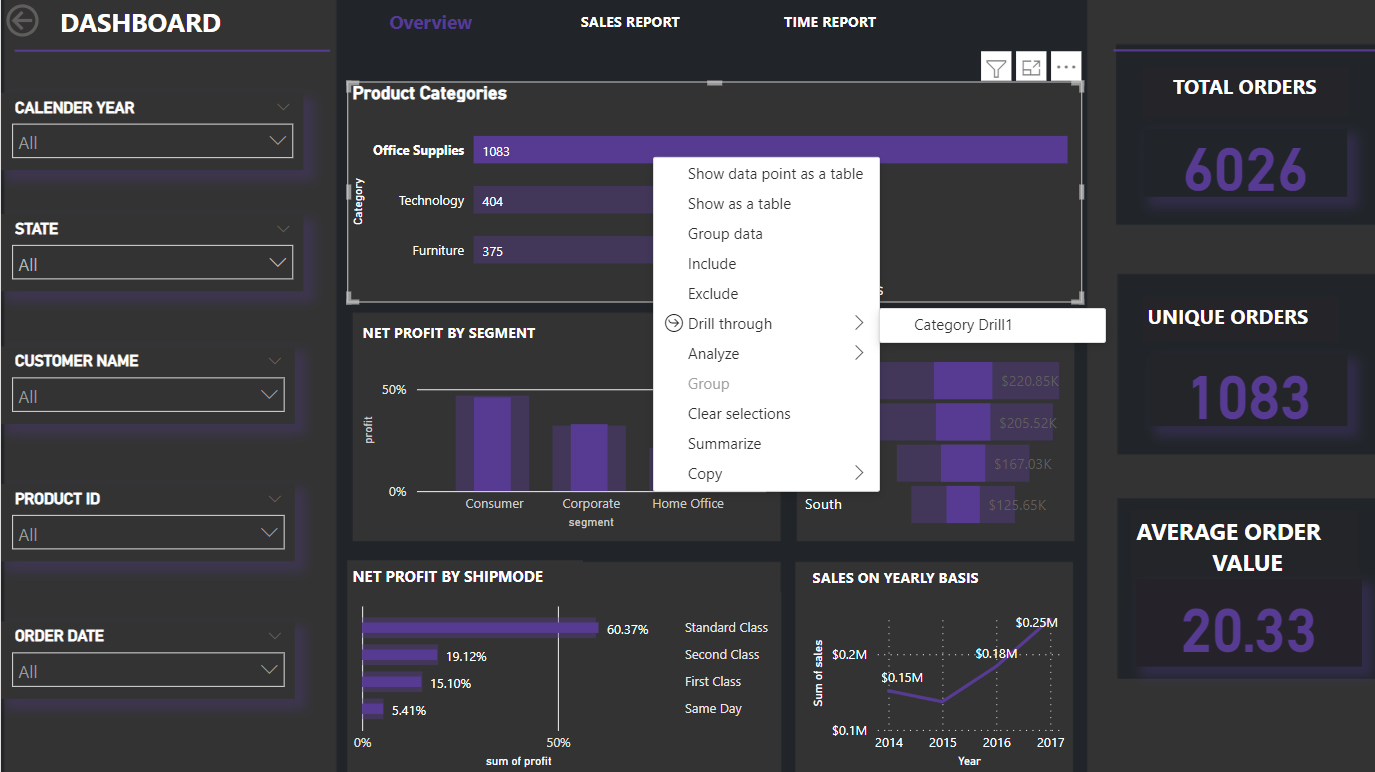

This screenshot's page, from the dashboard's own definition file:
{"tool":"powerbi","page":{"name":"Overview","canvas":[1280,720],"ordinal":0},"visuals":[{"type":"actionButton","box":[0,0,50.1,40.3],"z":0},{"type":"textbox","box":[331.6,296.7,186.2,31.4],"z":1000},{"type":"textbox","box":[322.7,522,218.8,30.6],"z":2000},{"type":"textbox","box":[750.6,298.3,215.1,30.6],"z":3000},{"type":"textbox","box":[750.8,524.3,220.3,30.8],"z":4000},{"type":"textbox","box":[1062.4,64,190.8,45.4],"z":5000},{"type":"textbox","box":[1062.4,278.1,182.7,40.7],"z":6000},{"type":"columnChart","fields":{"Category":["data_analysis customer_dim.segment"],"Y":["CountNonNull(data_analysis orderfact.profit)"]},"box":[331.6,330.5,385.2,167.6],"z":7000},{"type":"barChart","fields":{"Y":["CountNonNull(data_analysis orderfact.profit)"],"Category":["data_analysis shipmode_dim.ShipMode"]},"box":[322.3,552.7,403.8,167.6],"z":8000},{"type":"funnel","fields":{"Category":["data_analysis geography_dim.Region"],"Y":["Sum(data_analysis orderfact.sales)"]},"box":[743.6,329.3,251.3,167.6],"z":9000},{"type":"lineChart","fields":{"Y":["Sum(data_analysis orderfact.sales)"],"Category":["data_analysis order_dim.OrderDate.Variation.Date Hierarchy.Year"]},"box":[750.5,560.9,244.4,159.4],"z":10000},{"type":"textbox","box":[322.3,87.3,684.2,193.2],"z":11000},{"type":"barChart","title":"Product Categories ","fields":{"Category":["data_analysis product_dim.Category"],"Y":["CountNonNull(data_analysis product_dim.Sub_Category)"]},"box":[322.3,76.8,684.2,206],"z":12000},{"type":"textbox","box":[50.1,0,190.7,46.5],"z":13000},{"type":"card","fields":{"Values":["CountNonNull(data_analysis orderfact.sales)"]},"box":[1063.6,121,189.7,62.8],"z":14000},{"type":"card","fields":{"Values":["Count(data_analysis orderfact.ProductID)"]},"box":[1069.4,330.5,183.9,67.5],"z":15000},{"type":"textbox","box":[1051.9,475.9,210.6,76.8],"z":16000},{"type":"card","fields":{"Values":["data_analysis orderfact.Sum of profit divided by Count of sales"]},"box":[1056.6,539.9,210.6,81.5],"z":17000},{"type":"slicer","fields":{"Values":["data_analysis geography_dim.state"]},"box":[0,200.6,281.7,72.1],"z":18000},{"type":"slicer","fields":{"Values":["LocalDateTable_2fb53911-9730-4717-8495-35f770c958fc.Year"]},"box":[0,86.8,281.7,72.1],"z":19000},{"type":"slicer","fields":{"Values":["data_analysis customer_dim.CustomerName"]},"box":[0,323.4,273.8,72.1],"z":20000},{"type":"slicer","fields":{"Values":["data_analysis orderfact.ProductID"]},"box":[0,451.8,273.8,72.1],"z":21000},{"type":"slicer","fields":{"Values":["LocalDateTable_2fb53911-9730-4717-8495-35f770c958fc.Date"]},"box":[0,579.2,273.8,72.1],"z":22000},{"type":"pageNavigator","box":[311.9,0,549.2,41.9],"z":23000},{"type":"shape","box":[12.8,20.9,293.2,54.7],"z":24000},{"type":"shape","box":[1035.4,18.3,244.5,58.7],"z":25000}]}

Visuals, with their boxes on the page's 1280x720 design canvas (x1, y1, x2, y2). These are canvas units, not pixel positions in the 1375x772 screenshot, which may show the page scaled, cropped or inside an application window:
actionButton: x1=0, y1=0, x2=50, y2=40
textbox: x1=332, y1=297, x2=518, y2=328
textbox: x1=323, y1=522, x2=542, y2=553
textbox: x1=751, y1=298, x2=966, y2=329
textbox: x1=751, y1=524, x2=971, y2=555
textbox: x1=1062, y1=64, x2=1253, y2=109
textbox: x1=1062, y1=278, x2=1245, y2=319
columnChart - data_analysis customer_dim.segment x CountNonNull(data_analysis orderfact.profit): x1=332, y1=330, x2=717, y2=498
barChart - CountNonNull(data_analysis orderfact.profit) x data_analysis shipmode_dim.ShipMode: x1=322, y1=553, x2=726, y2=720
funnel - data_analysis geography_dim.Region x Sum(data_analysis orderfact.sales): x1=744, y1=329, x2=995, y2=497
lineChart - Sum(data_analysis orderfact.sales) x data_analysis order_dim.OrderDate.Variation.Date Hierarchy.Year: x1=750, y1=561, x2=995, y2=720
textbox: x1=322, y1=87, x2=1006, y2=280
"Product Categories " barChart: x1=322, y1=77, x2=1006, y2=283
textbox: x1=50, y1=0, x2=241, y2=46
card - CountNonNull(data_analysis orderfact.sales): x1=1064, y1=121, x2=1253, y2=184
card - Count(data_analysis orderfact.ProductID): x1=1069, y1=330, x2=1253, y2=398
textbox: x1=1052, y1=476, x2=1262, y2=553
card - data_analysis orderfact.Sum of profit divided by Count of sales: x1=1057, y1=540, x2=1267, y2=621
slicer - data_analysis geography_dim.state: x1=0, y1=201, x2=282, y2=273
slicer - LocalDateTable_2fb53911-9730-4717-8495-35f770c958fc.Year: x1=0, y1=87, x2=282, y2=159
slicer - data_analysis customer_dim.CustomerName: x1=0, y1=323, x2=274, y2=396
slicer - data_analysis orderfact.ProductID: x1=0, y1=452, x2=274, y2=524
slicer - LocalDateTable_2fb53911-9730-4717-8495-35f770c958fc.Date: x1=0, y1=579, x2=274, y2=651
pageNavigator: x1=312, y1=0, x2=861, y2=42
shape: x1=13, y1=21, x2=306, y2=76
shape: x1=1035, y1=18, x2=1280, y2=77
